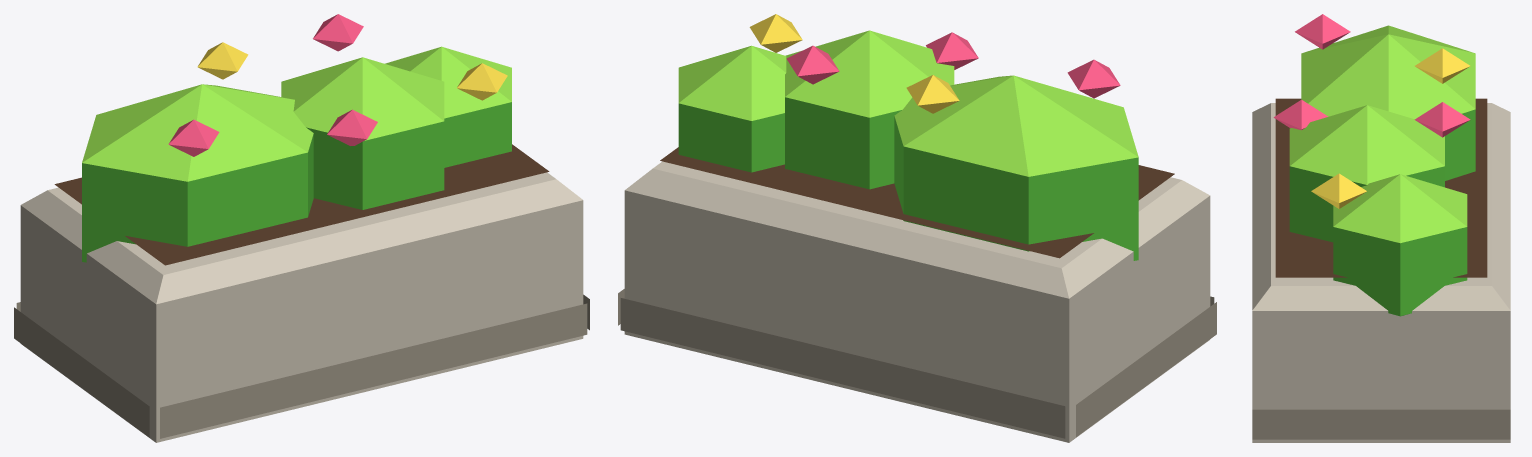
Rendered from planter.glb.
3 renders of one model, left to right at view 1: azimuth 30°, elevation 25°; view 2: azimuth 150°, elevation 25°; view 3: azimuth 270°, elevation 25°, orthographic. The views are drawn at different scales.
Visible parts, largest first — view 1: planter; view 2: planter; view 3: planter.
Boxes of the visible parts, x1=… form: planter: x1=14, y1=14, x2=589, y2=442; planter: x1=618, y1=14, x2=1216, y2=442; planter: x1=1252, y1=14, x2=1510, y2=442.
Size of the model in its own units: 0.206 by 0.1284 by 0.116.
